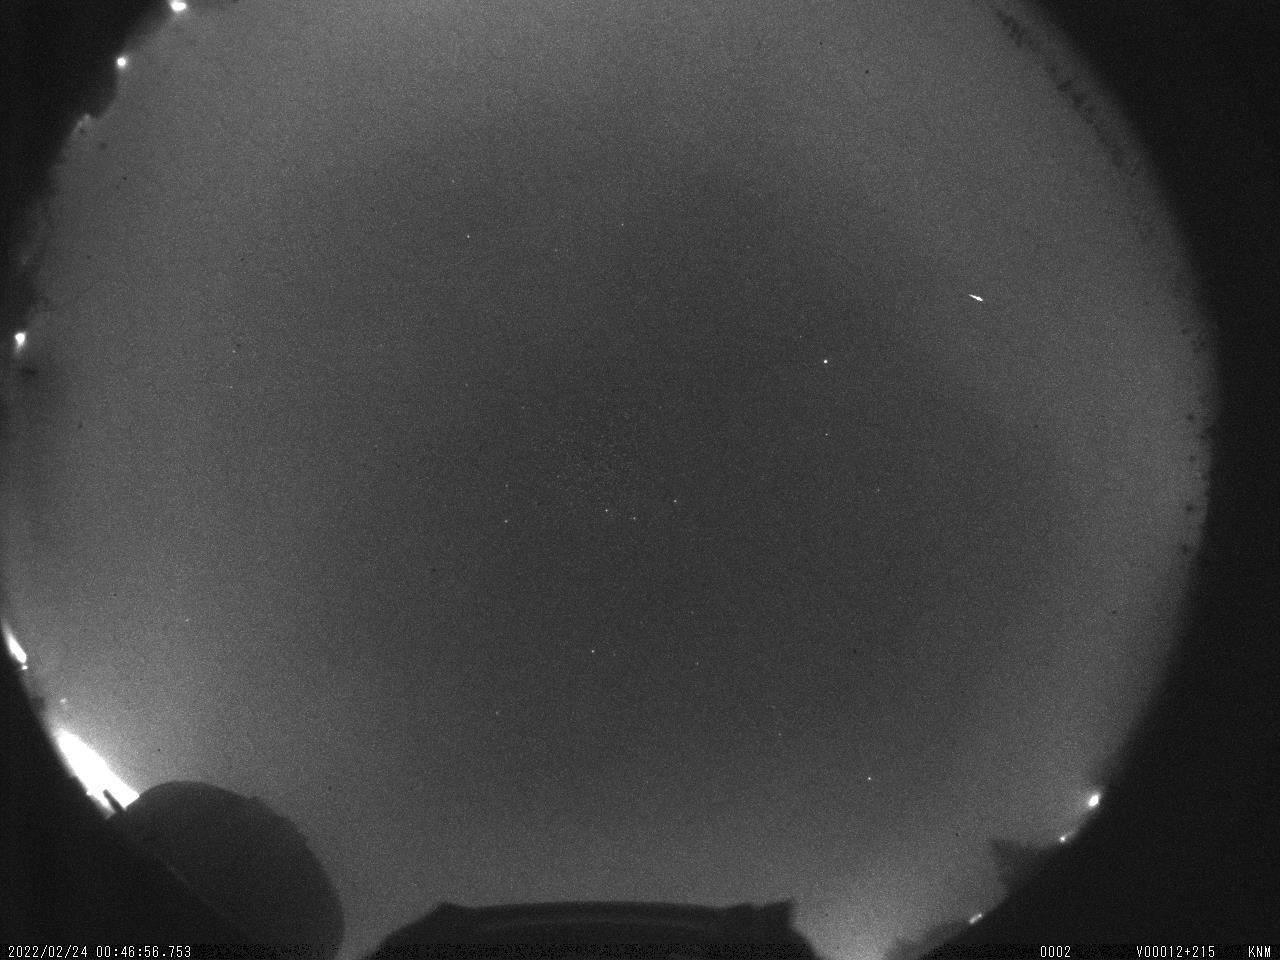Meteor: (964, 289, 988, 306)
